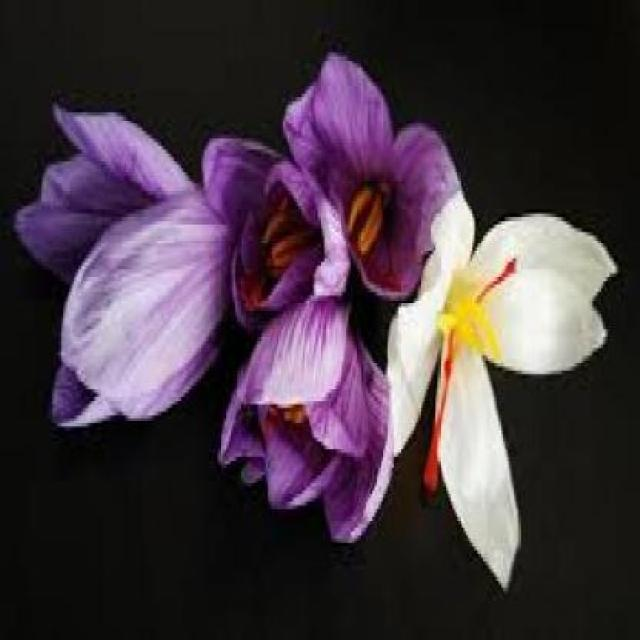saffron open: (366, 191, 615, 588), (54, 160, 228, 425), (284, 54, 459, 299), (220, 296, 388, 540)
